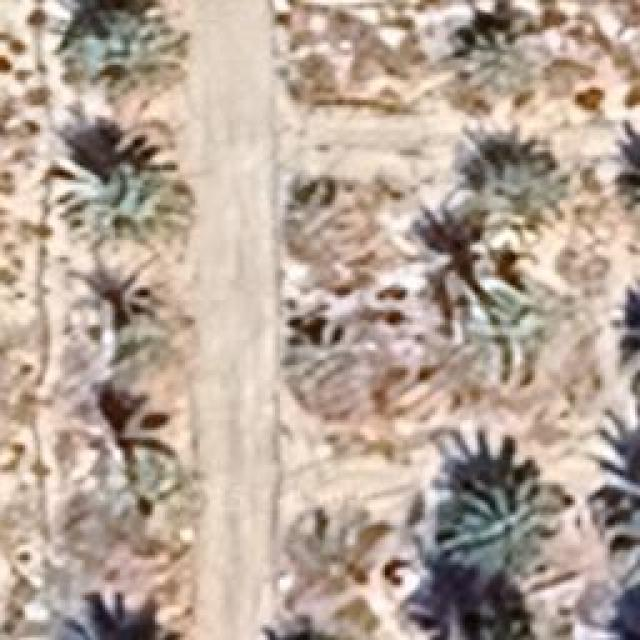PalmTree: (115, 53, 326, 357), (424, 441, 558, 573), (67, 415, 195, 543), (451, 268, 579, 382), (70, 131, 185, 244), (72, 279, 186, 379), (72, 8, 192, 100), (97, 100, 118, 614), (448, 140, 562, 228), (258, 574, 388, 638), (458, 20, 558, 100), (600, 424, 640, 548), (612, 466, 640, 596), (613, 479, 640, 597), (616, 278, 640, 402), (438, 613, 544, 640), (614, 134, 640, 233), (620, 482, 640, 600), (621, 290, 640, 412), (438, 620, 546, 640), (431, 622, 541, 640), (620, 144, 640, 230)
